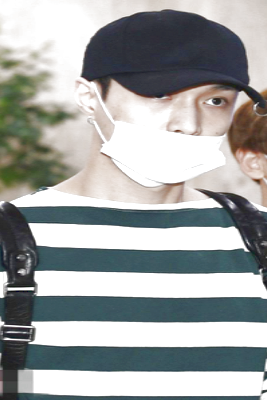mask_weared_incorrect: (95, 86, 235, 184)
